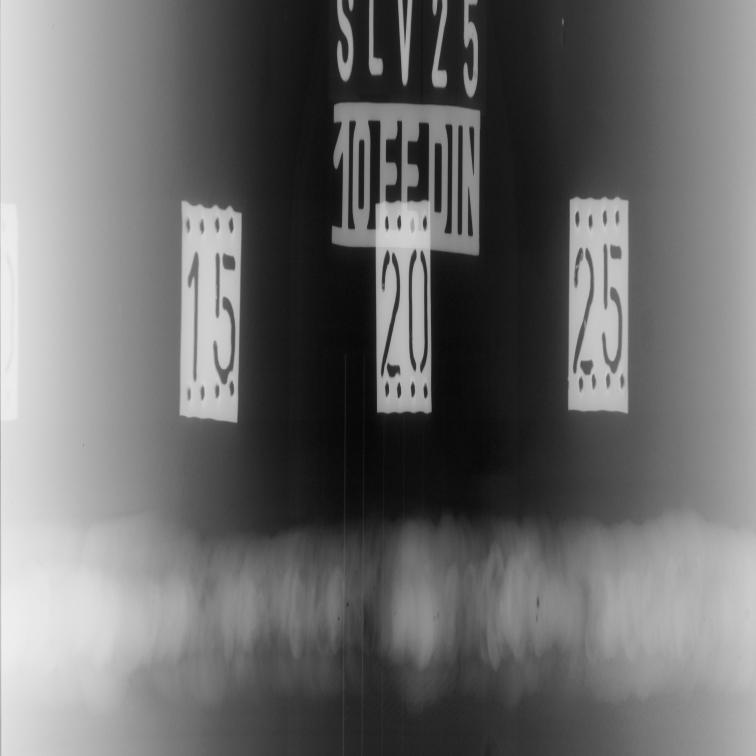FF: (236, 621, 334, 710), (103, 650, 224, 716), (84, 542, 177, 618), (406, 609, 485, 687), (492, 641, 562, 706), (336, 635, 376, 709), (727, 600, 754, 675), (359, 592, 377, 651)
PO: (536, 593, 541, 611), (337, 610, 341, 624), (346, 599, 350, 611), (393, 608, 397, 619), (535, 614, 539, 625), (373, 582, 375, 592)
